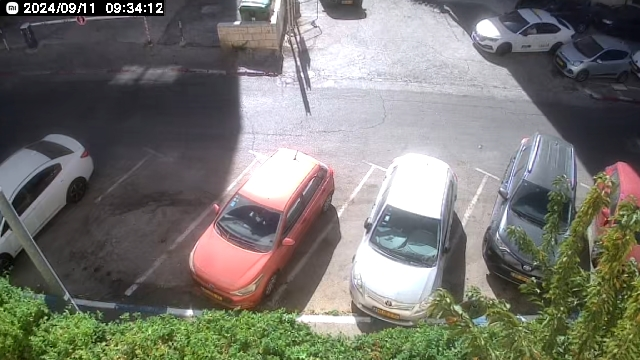empty: (35, 139, 221, 304)
